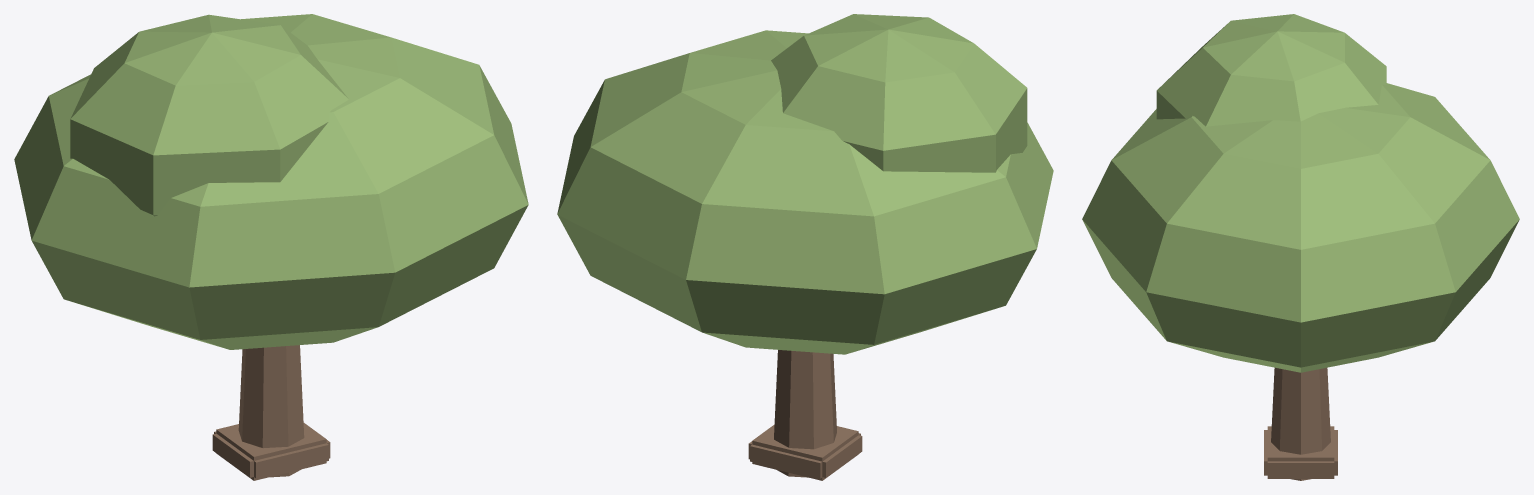
File: round.glb
3 views of the same model, side by side, from view 1: azimuth 30°, elevation 25°; view 2: azimuth 150°, elevation 25°; view 3: azimuth 270°, elevation 25° (orthographic). The views are drawn at different scales.
Visible parts, largest first — view 1: Canopy, Canopy_A, Trunk, RootFlare; view 2: Canopy, Canopy_A, Trunk, RootFlare; view 3: Canopy, Canopy_A, Trunk, RootFlare.
Part boxes in pixels (x1=…): Canopy: x1=14, y1=14, x2=528, y2=349; Canopy_A: x1=70, y1=14, x2=348, y2=216; Trunk: x1=238, y1=345, x2=304, y2=477; RootFlare: x1=212, y1=423, x2=330, y2=480; Canopy: x1=557, y1=30, x2=1053, y2=354; Canopy_A: x1=771, y1=14, x2=1027, y2=172; Trunk: x1=774, y1=350, x2=836, y2=477; RootFlare: x1=748, y1=424, x2=862, y2=480; Canopy: x1=1082, y1=83, x2=1519, y2=372; Canopy_A: x1=1156, y1=14, x2=1386, y2=126; Trunk: x1=1271, y1=367, x2=1330, y2=480; RootFlare: x1=1264, y1=426, x2=1337, y2=478.
Bounding box in the file's own units: 2.51 × 2.29 × 2.24.
